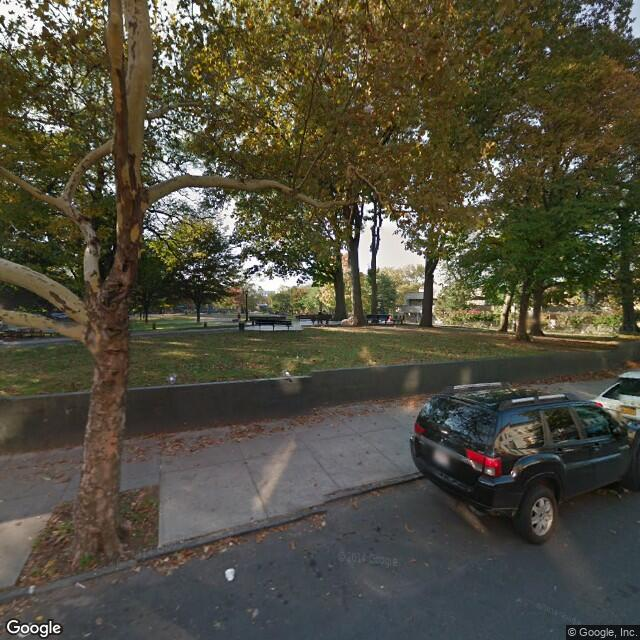litter: (218, 566, 254, 583), (159, 374, 187, 392), (66, 578, 94, 594), (280, 368, 308, 383), (22, 581, 43, 593)
